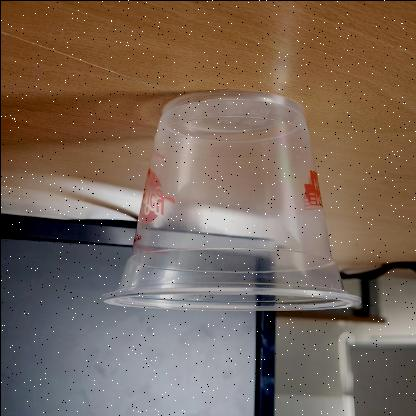Others: (93, 89, 366, 313)
